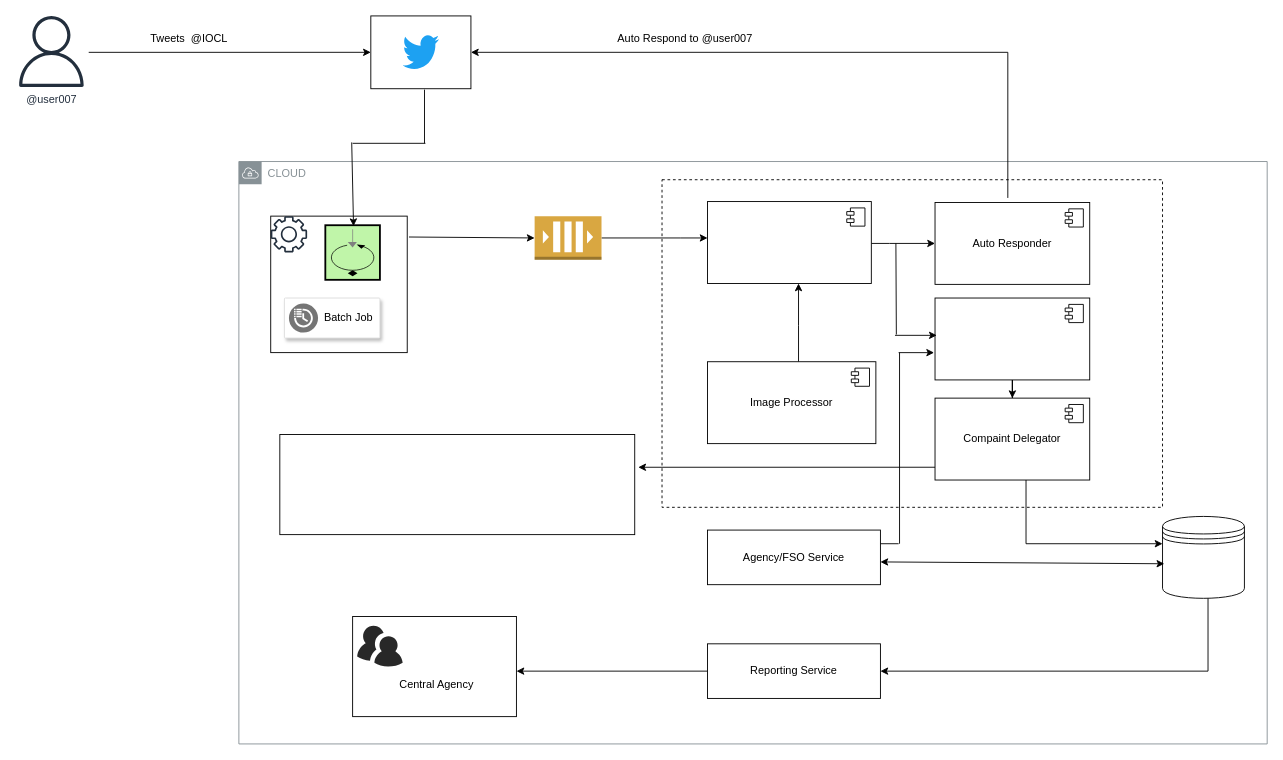
Image size: 1283x760. Some labels were removed from this diagram. The shapes that lost their labels are listed below. From the top down, each one's centre as x and y in pixels, then its label:
At (x=568, y=237): "Queue".
At (x=789, y=242): "Tweet Analyser".
At (x=1012, y=338): "Compaint Processor".
At (x=1203, y=557): "DataStore".
